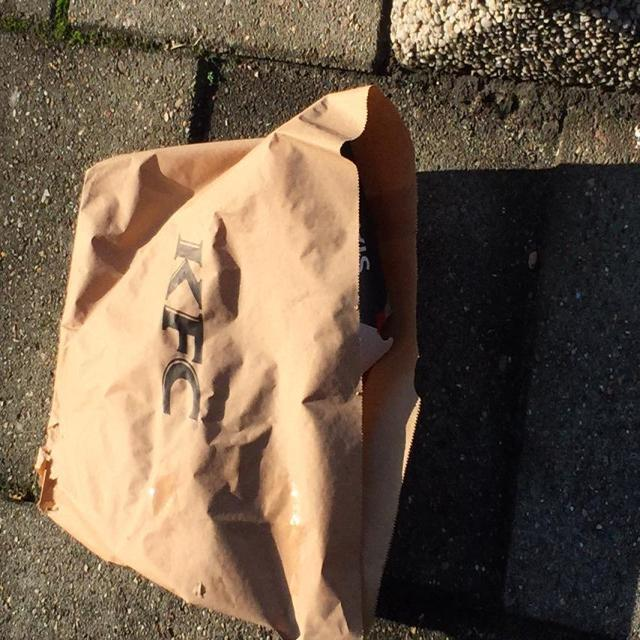Paper: (29, 83, 426, 640)
